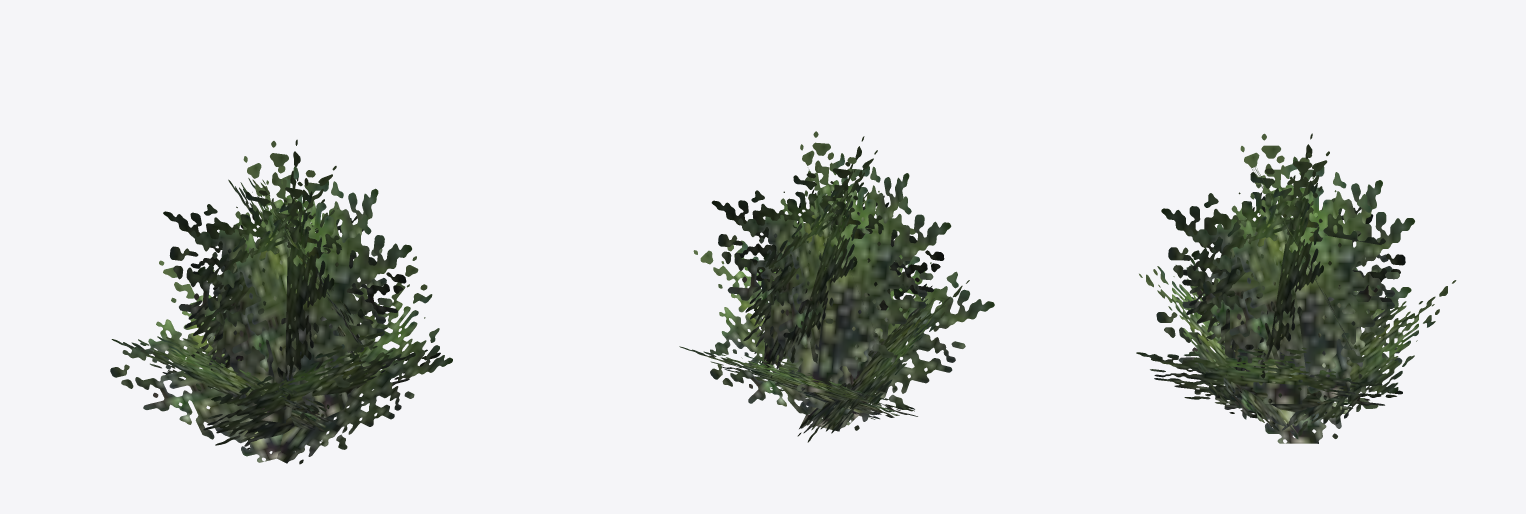
Rendered from bush.glb.
The picture shows the model from 3 angles, left to right: view 1: azimuth 30°, elevation 25°; view 2: azimuth 150°, elevation 25°; view 3: azimuth 270°, elevation 25°; orthographic projection. The views are drawn at different scales.
Parts seen in each view (by area): view 1: bush_la_1; view 2: bush_la_1; view 3: bush_la_1.
Part boxes in pixels (<box>): bush_la_1: <box>110,139,452,464</box>; bush_la_1: <box>679,131,994,442</box>; bush_la_1: <box>1136,133,1456,443</box>.
Bounding box in the file's own units: 6.3 × 5.99 × 5.98.
Materials: 1 (1 with a texture image).
